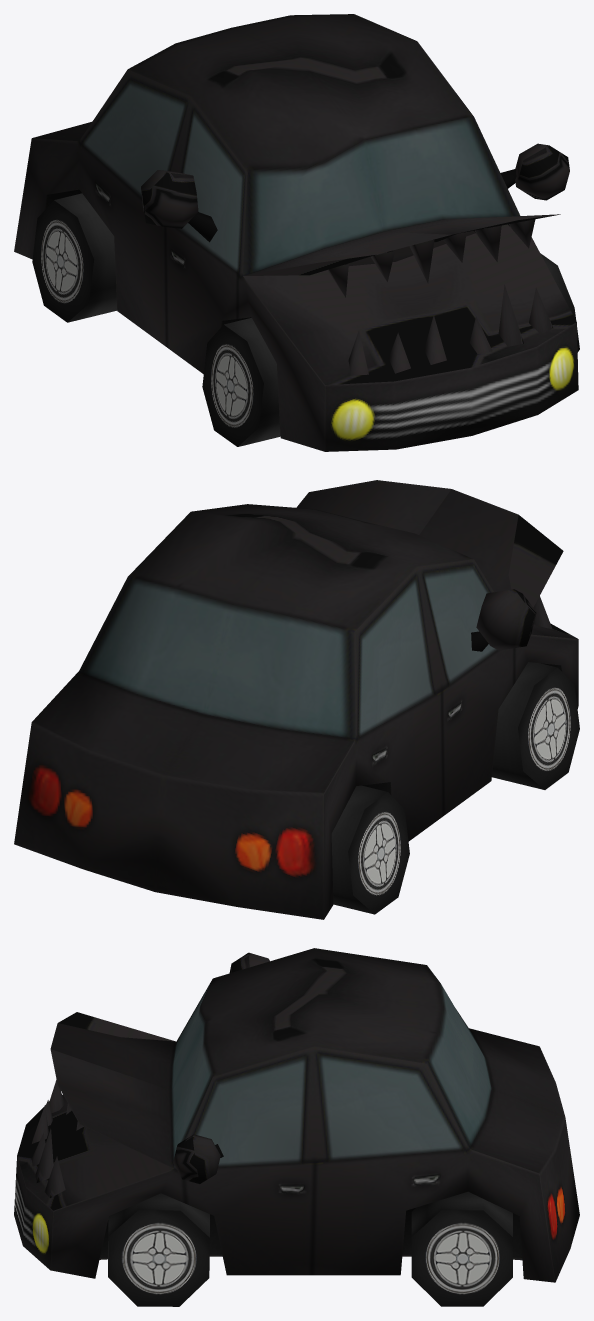
Rendered from modelCar(2).fbx.
3 views of the same model, one above another, from view 1: azimuth 30°, elevation 25°; view 2: azimuth 150°, elevation 25°; view 3: azimuth 270°, elevation 25° (orthographic). The views are drawn at different scales.
Parts seen in each view (by area): view 1: modelCar; view 2: modelCar; view 3: modelCar.
Part boxes in pixels (left/top/right/bottom): modelCar: left=14, top=14, right=579, bottom=451; modelCar: left=14, top=480, right=579, bottom=919; modelCar: left=14, top=948, right=579, bottom=1306.
Bounding box in the file's own units: 204 × 135 × 285.
